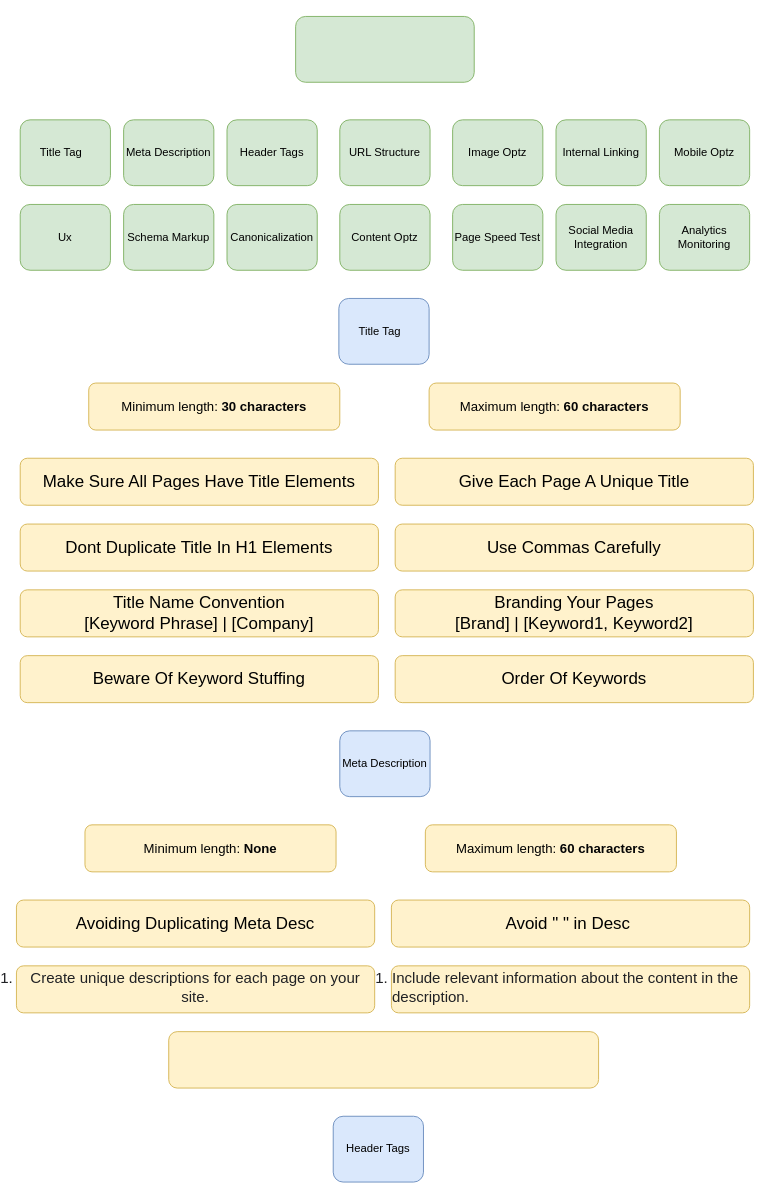
Image size: 770x1199. Some labels were removed from this diagram. Each missing label, with the box of its shape:
https://developers.google.com/search/docs/appearance/snippet: (168, 1031, 599, 1088)
On Page Optimization: (295, 16, 474, 82)
